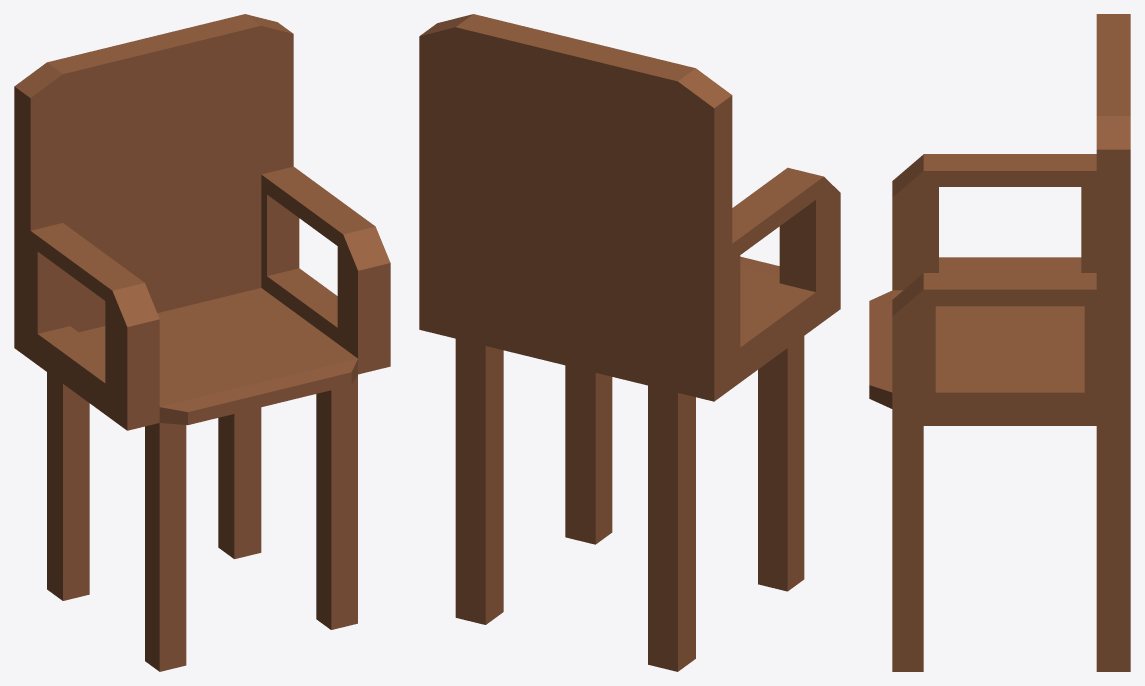
The model's file is sandalye.fbx.
3 views of the same model, side by side, from view 1: azimuth 30°, elevation 25°; view 2: azimuth 150°, elevation 25°; view 3: azimuth 270°, elevation 25° (orthographic). The views are drawn at different scales.
Parts seen in each view (by area): view 1: Cube; view 2: Cube; view 3: Cube.
Part boxes in pixels (x1=…): Cube: x1=14, y1=14, x2=390, y2=671; Cube: x1=419, y1=14, x2=840, y2=671; Cube: x1=869, y1=14, x2=1130, y2=671.
Size of the model in its own units: 168 by 320 by 136.
